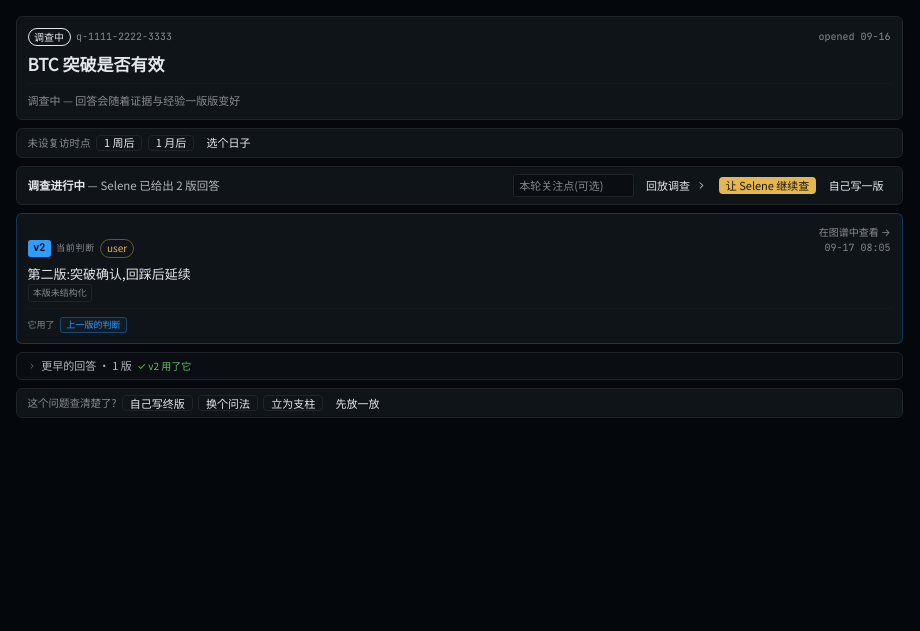
QuestionSurface v5 渐进披露 › J1: 点开撰写面板,账本 resolve 前零条目只显示 pending 占位
The image size is (920, 631).
Expected: the heading "BTC 突破是否有效" is shown, [28,51,164,76]
Click the button "自己写一版". click: (856, 185)
box: [822,177,891,194]
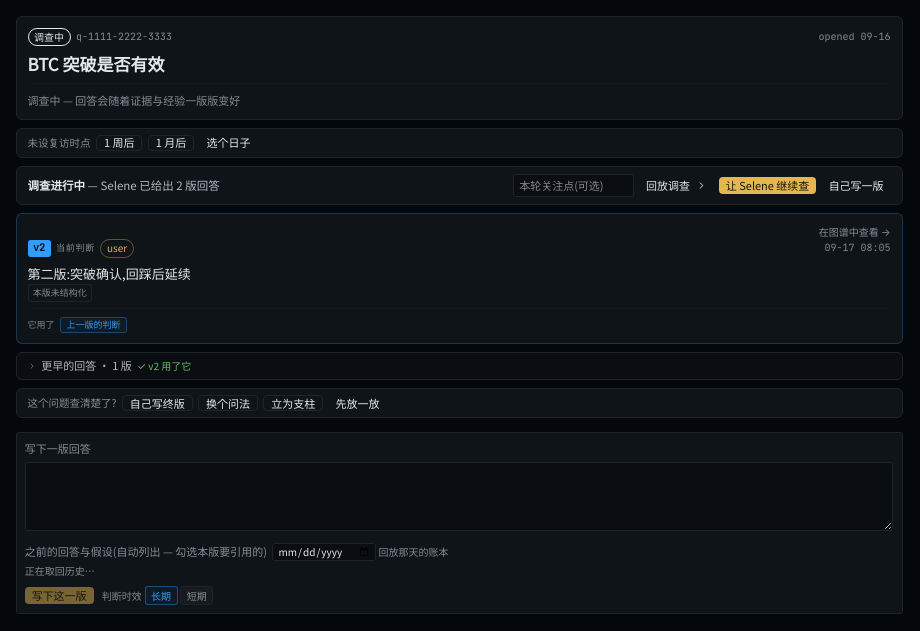
Expected: the text "正在取回历史…" is shown, [25,563,95,578]
